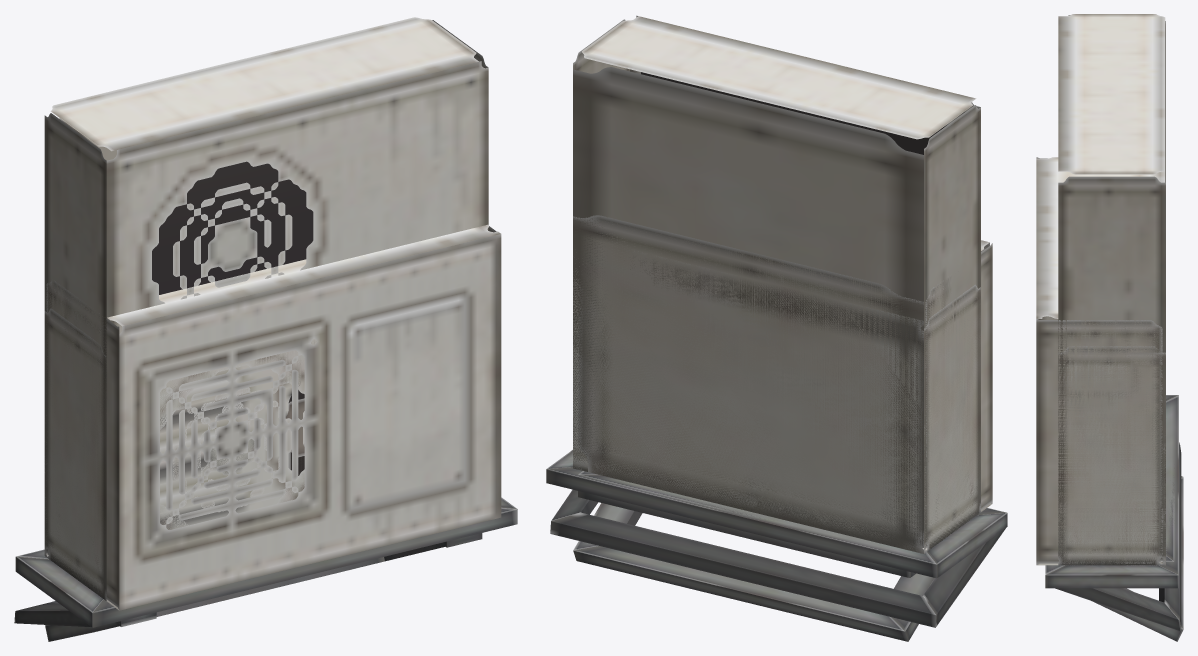
Rendered from DETAILS AC Units.fbx.
3 renders of one model, left to right at view 1: azimuth 30°, elevation 25°; view 2: azimuth 150°, elevation 25°; view 3: azimuth 270°, elevation 25°, orthographic. The views are drawn at different scales.
Visible parts, largest first — view 1: AC Unit C, AC Unit B, AC Unit Ab, AC Unit Cb; view 2: AC Unit B, AC Unit Ab, AC Unit C, AC Unit Cb, AC Unit A; view 3: AC Unit B, AC Unit Ab, AC Unit C, AC Unit Cb, AC Unit A.
Part boxes in pixels (x1,y1,x2,y2): AC Unit C: (46, 224, 501, 610); AC Unit B: (44, 17, 488, 599); AC Unit Ab: (14, 308, 517, 627); AC Unit Cb: (45, 543, 444, 641); AC Unit B: (573, 15, 980, 552); AC Unit Ab: (546, 250, 1007, 627); AC Unit C: (573, 215, 992, 550); AC Unit Cb: (573, 503, 935, 641); AC Unit A: (573, 266, 923, 577); AC Unit B: (1058, 14, 1165, 565); AC Unit Ab: (1045, 346, 1181, 631); AC Unit C: (1036, 157, 1165, 565); AC Unit Cb: (1093, 476, 1183, 641); AC Unit A: (1166, 468, 1174, 561).
Bounding box in the file's own units: 246 × 299 × 84.92.
